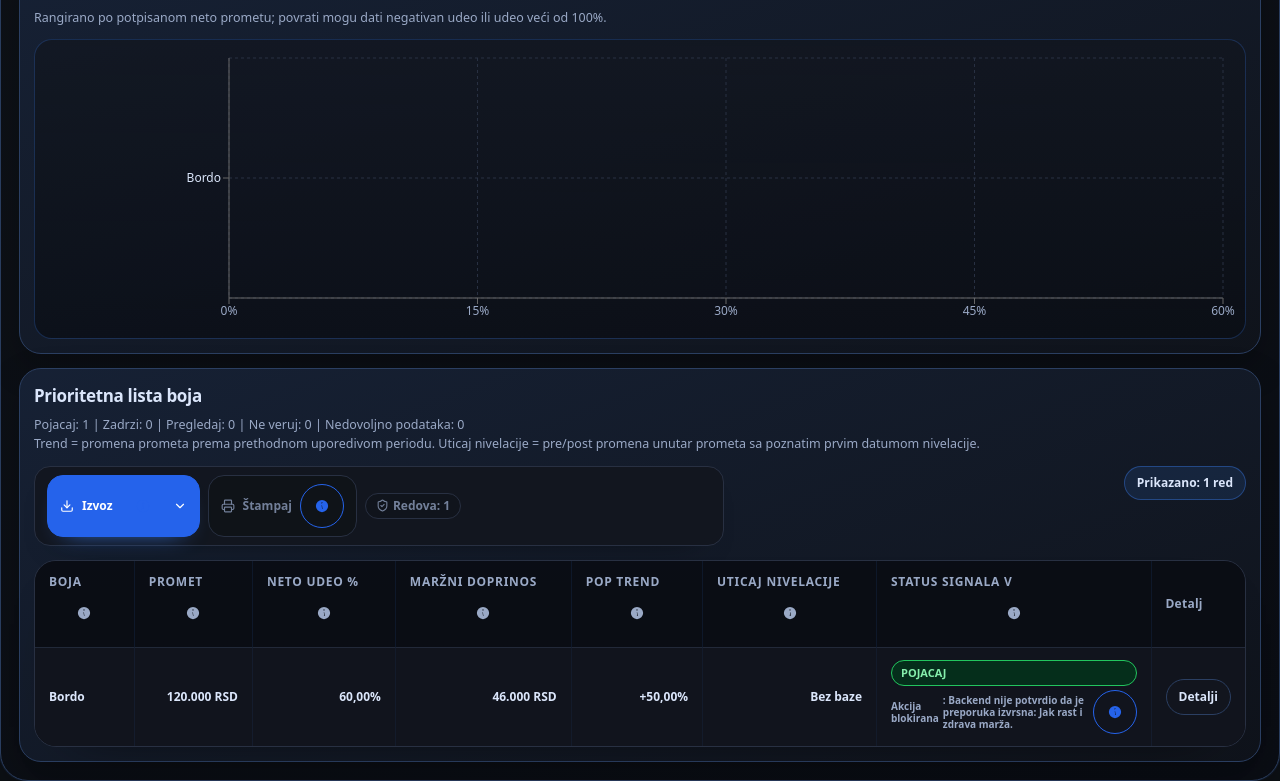
ColorSalesStatsPage premium controls › keeps measured zero pre/post evidence visible when impact percent is unavailable
(page scrolled)
Check: the row that starts with "Bordo" is shown, box x1=35 y1=648 x2=1245 y2=746
Click the button "Detalji".
click(1198, 697)  # box x1=1166 y1=679 x2=1231 y2=715
(page scrolled)
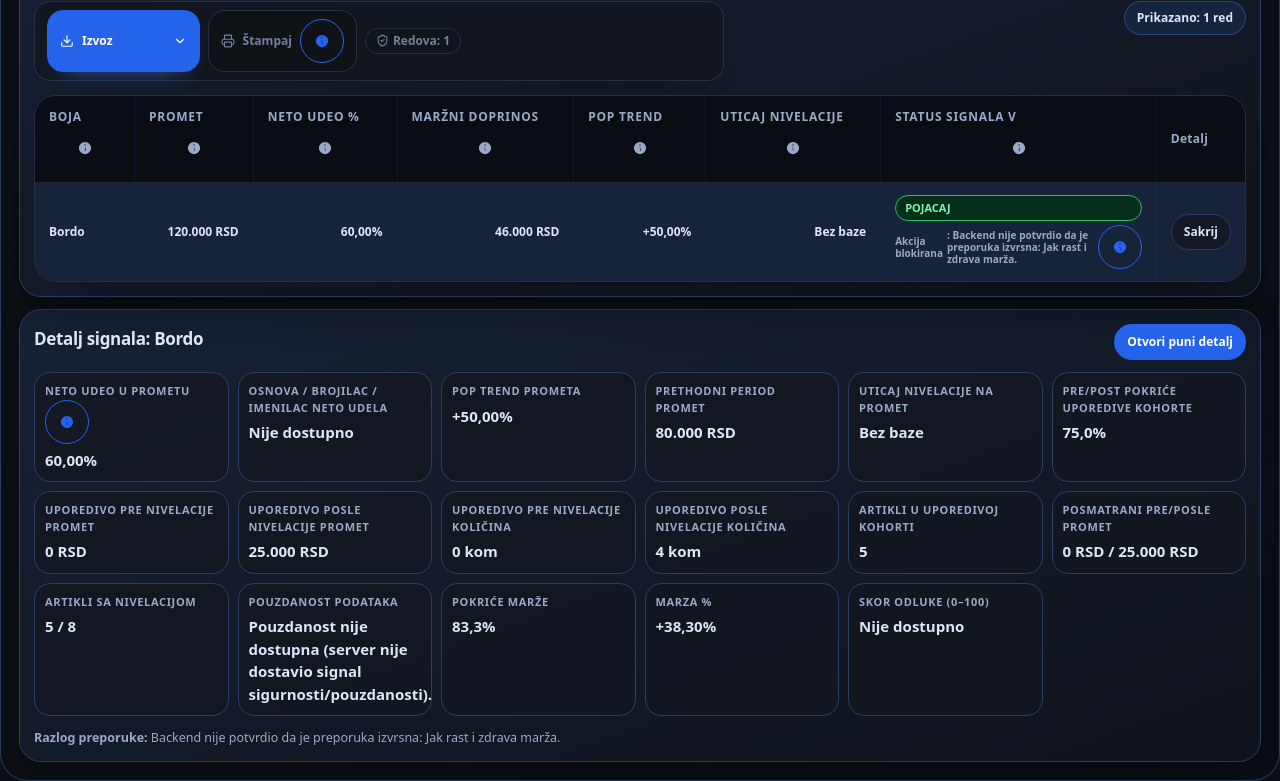
Check: the element "Detalj signala: Bordo" is shown, box x1=19 y1=309 x2=1261 y2=762
